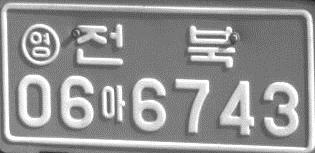0: (16, 73, 50, 128)
3: (261, 80, 299, 138)
4: (218, 81, 254, 135)
6: (58, 74, 93, 129), (131, 78, 166, 131)
7: (173, 78, 210, 134)
아: (100, 84, 125, 123)
영: (20, 23, 60, 66)
전북_D: (73, 23, 236, 68)
